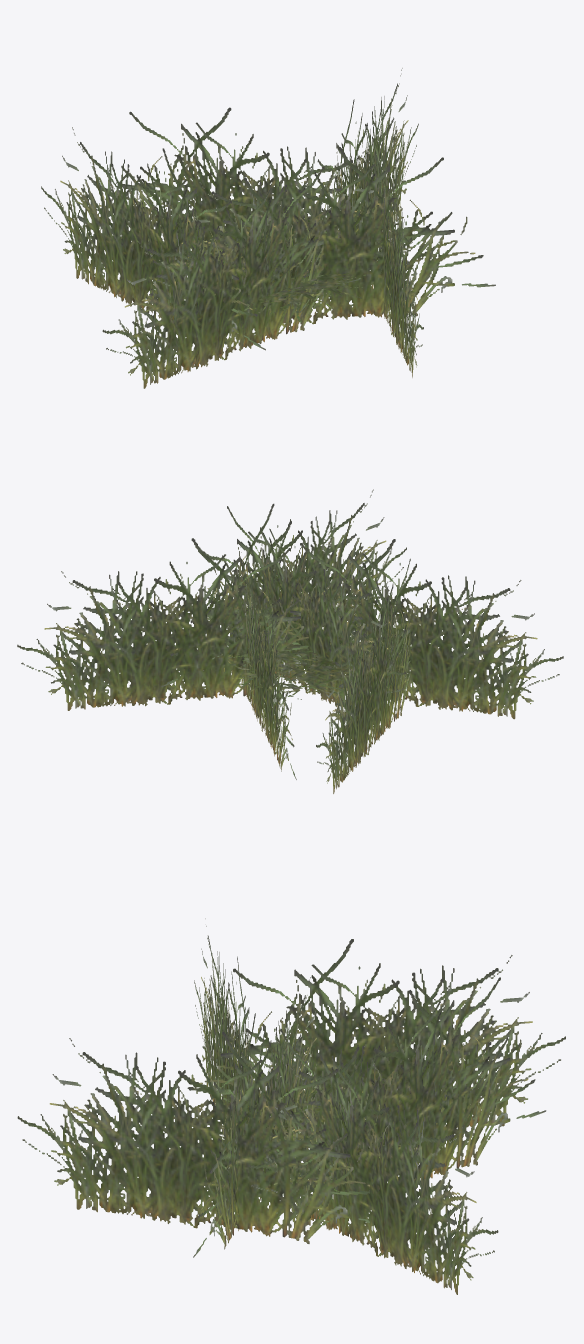
File: scatter_grass.glb
3 views of the same model, one above another, from view 1: azimuth 30°, elevation 25°; view 2: azimuth 150°, elevation 25°; view 3: azimuth 270°, elevation 25° (orthographic). The views are drawn at different scales.
Visible parts, largest first — view 1: scatter_grass; view 2: scatter_grass; view 3: scatter_grass.
Part boxes in pixels (x1,y1,x2,y2): scatter_grass: (41, 68, 495, 388); scatter_grass: (17, 489, 563, 793); scatter_grass: (17, 918, 565, 1294).
Size of the model in its own units: 1.1 by 0.45 by 1.02.
1 material, 1 textured.
